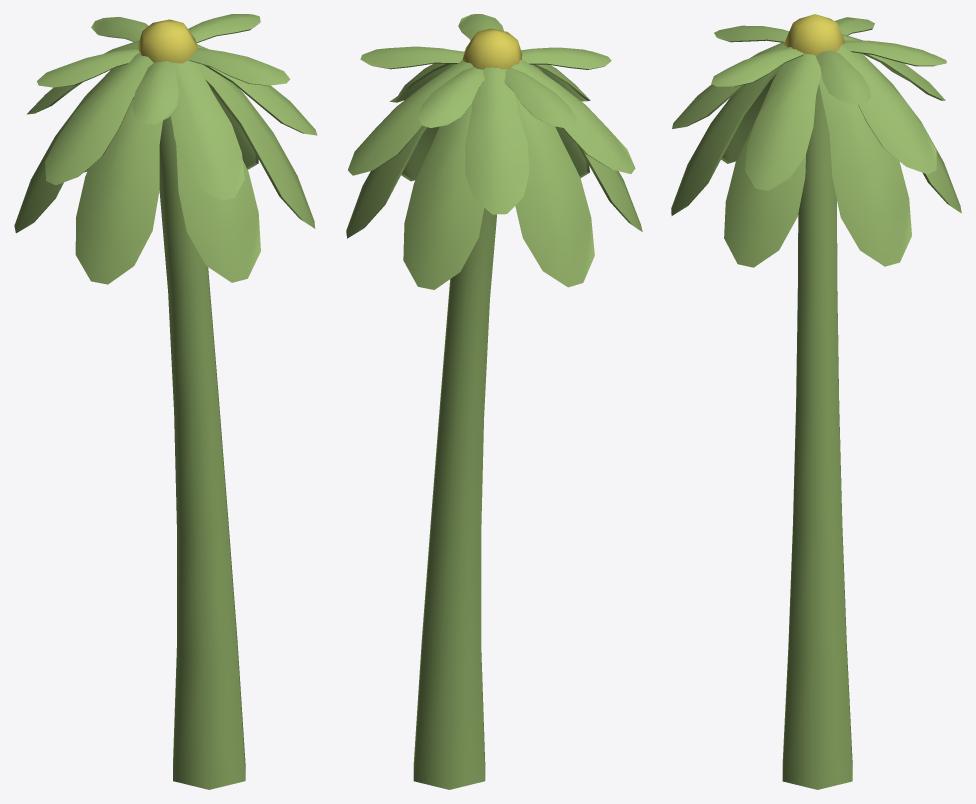
File: Plant03.fbx
3 renders of one model, left to right at view 1: azimuth 30°, elevation 25°; view 2: azimuth 150°, elevation 25°; view 3: azimuth 270°, elevation 25°, orthographic. The views are drawn at different scales.
Visible parts, largest first — view 1: Plant03_LOD0; view 2: Plant03_LOD0; view 3: Plant03_LOD0.
Boxes of the visible parts, x1,y1,x2,y2 form: Plant03_LOD0: (14,14,317,789); Plant03_LOD0: (346,14,642,789); Plant03_LOD0: (671,14,961,789).
Size of what is drawn, in the model's own units: 20.34 by 58.12 by 20.8.
